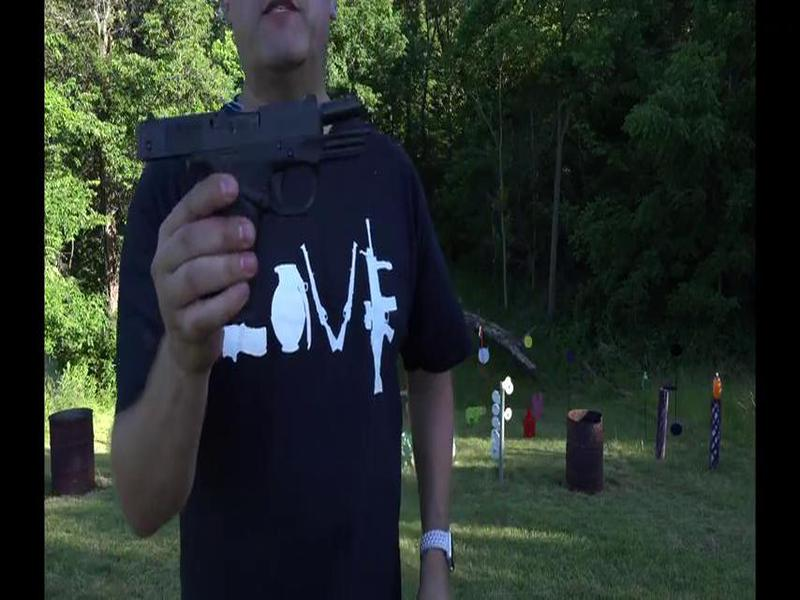Pistola: (137, 77, 367, 305)
